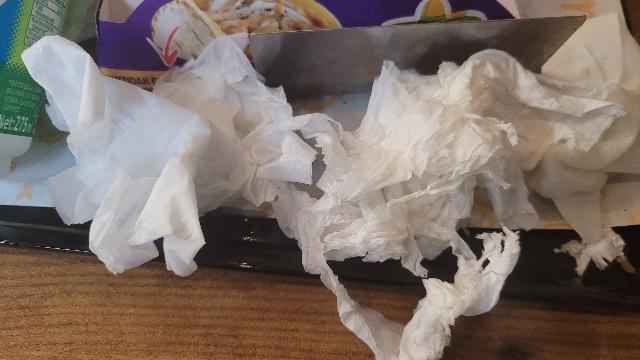Kagit: (294, 58, 637, 357), (21, 31, 222, 281)
Plastik: (0, 0, 75, 169)
